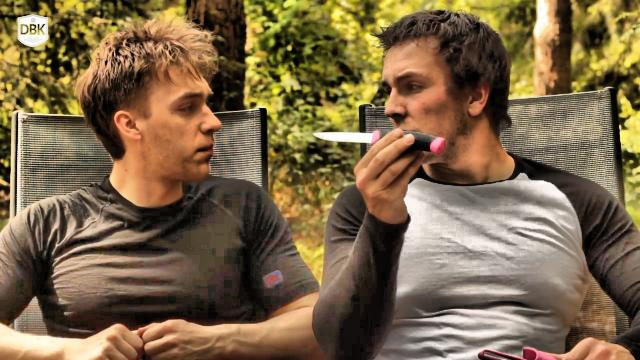knife: (308, 121, 456, 164)
